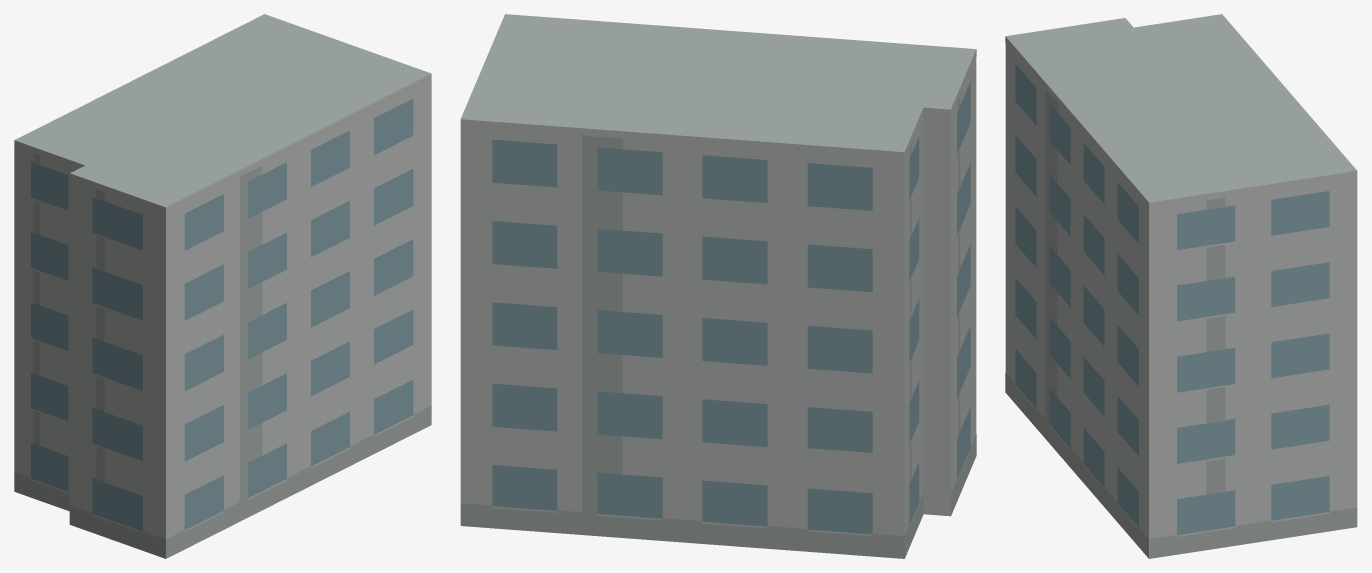
The model's file is survey-upis-32739897.glb.
The picture shows the model from 3 angles, left to right: view 1: azimuth 30°, elevation 25°; view 2: azimuth 150°, elevation 25°; view 3: azimuth 270°, elevation 25°; orthographic projection. The views are drawn at different scales.
Parts seen in each view (by area): view 1: survey-upis-32739897.tmp; view 2: survey-upis-32739897.tmp; view 3: survey-upis-32739897.tmp.
Boxes of the visible parts, x1,y1,x2,y2 form: survey-upis-32739897.tmp: [14, 14, 431, 558]; survey-upis-32739897.tmp: [460, 14, 976, 558]; survey-upis-32739897.tmp: [1005, 14, 1357, 558].
Bounding box in the file's own units: 14.88 × 13.1 × 11.74.
